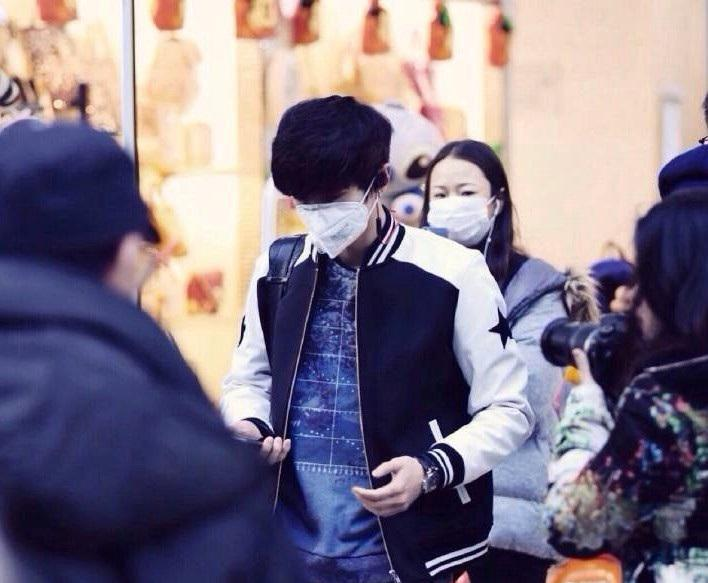OK: (293, 174, 373, 252), (427, 178, 494, 245)
